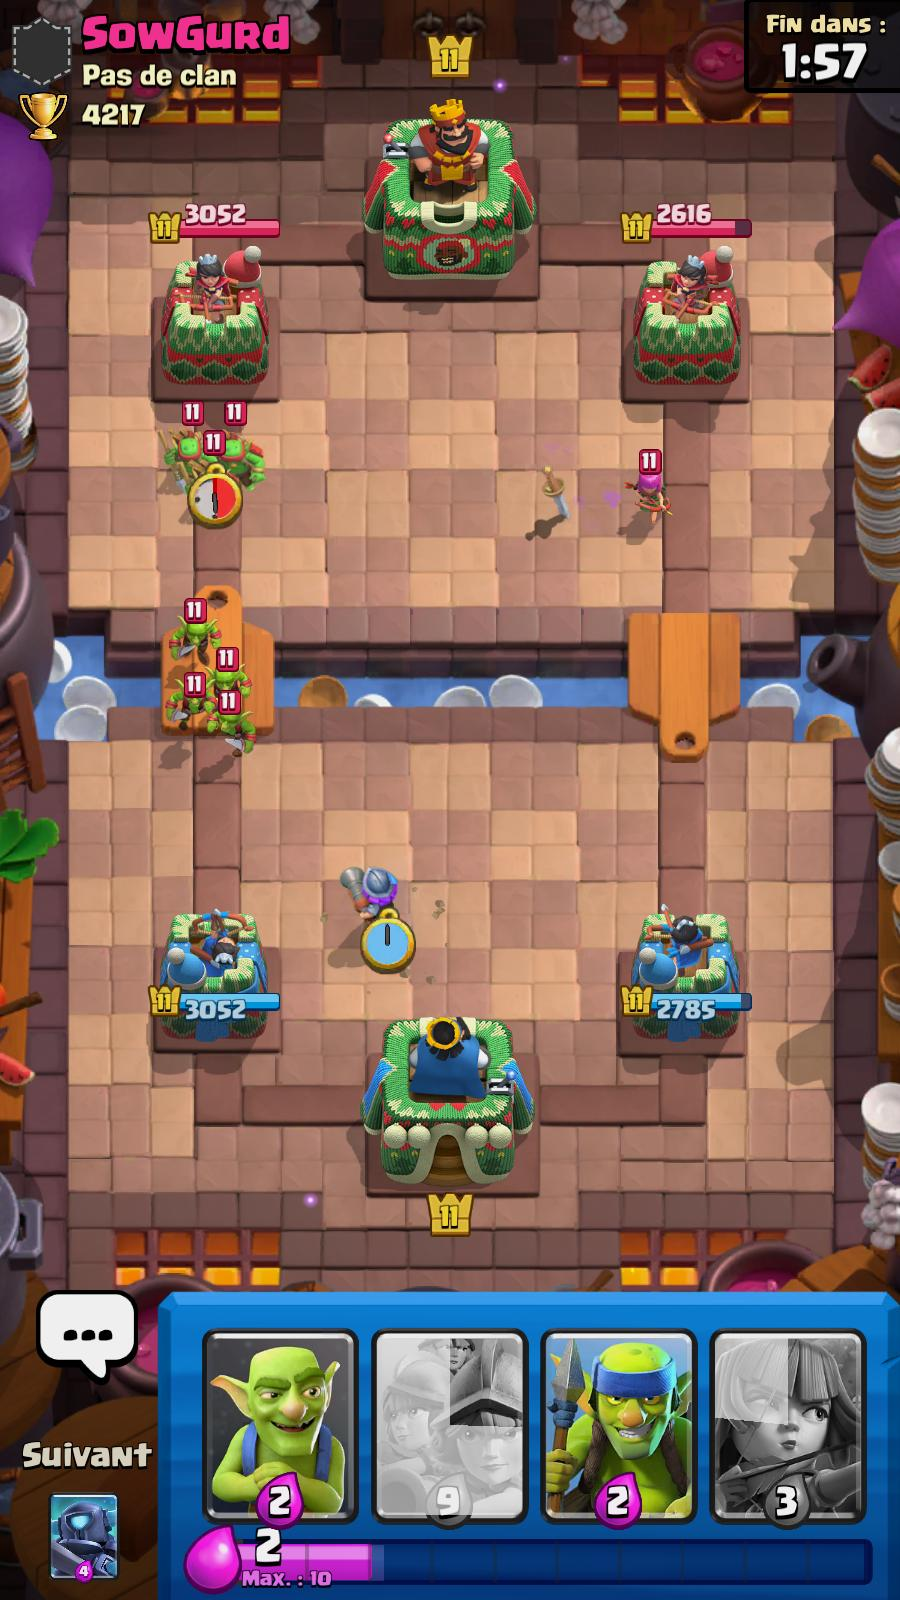archere: (631, 446, 677, 536)
gobelin: (202, 689, 259, 753), (171, 597, 222, 668), (169, 669, 214, 738), (212, 642, 248, 707)
gobelin_lances: (167, 397, 211, 497), (216, 395, 257, 491)
mousquetaire: (342, 867, 400, 944)
